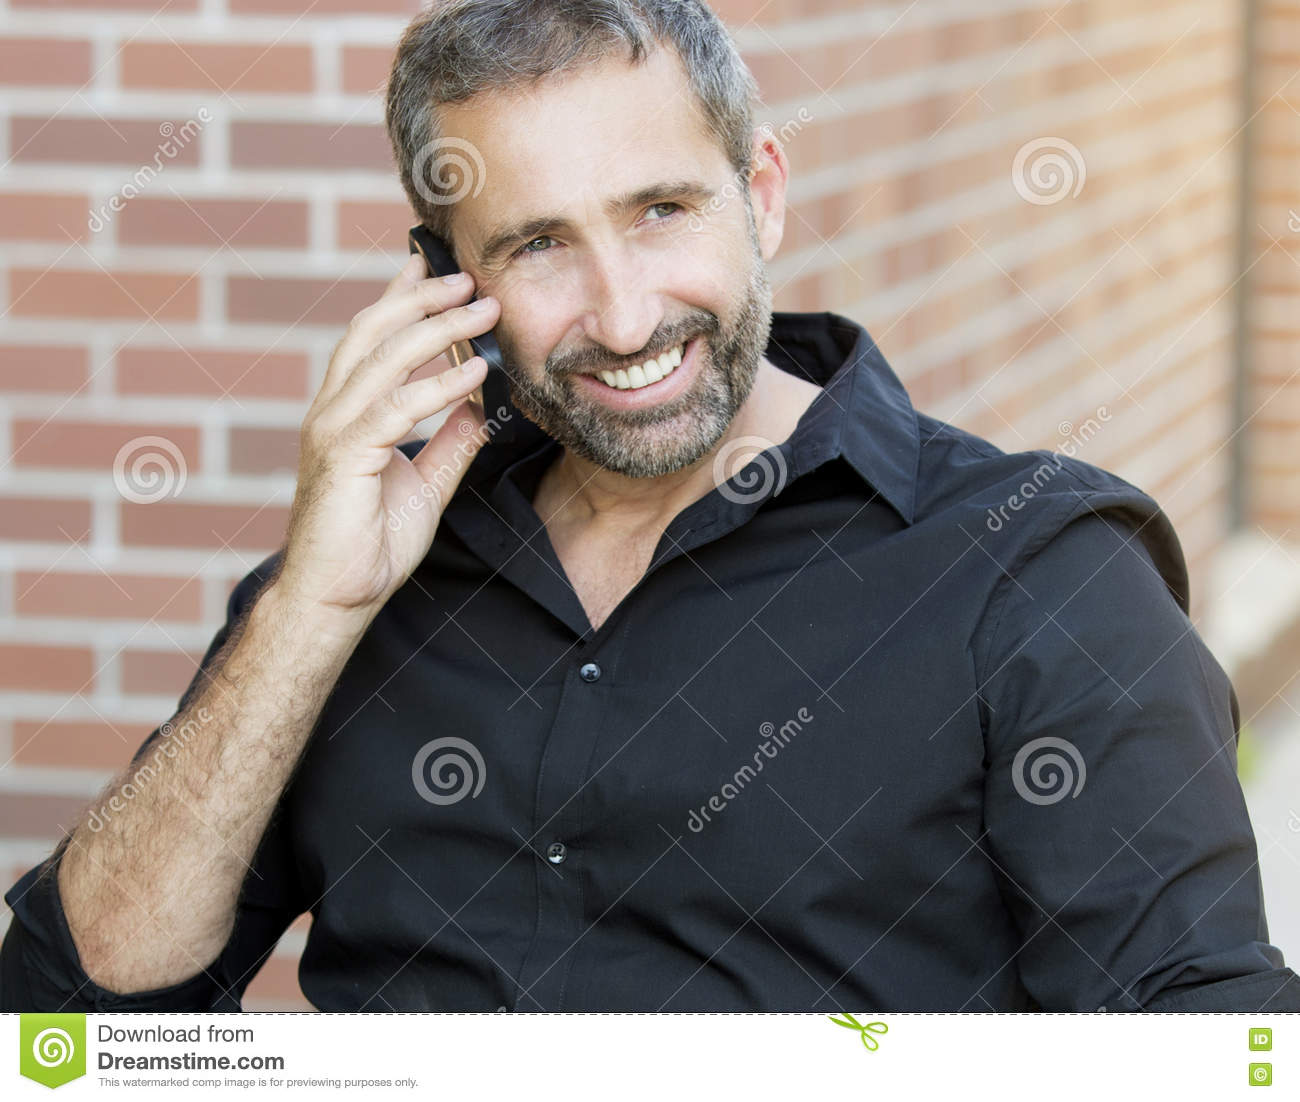phone: (386, 221, 520, 464)
talk: (286, 155, 768, 612)
